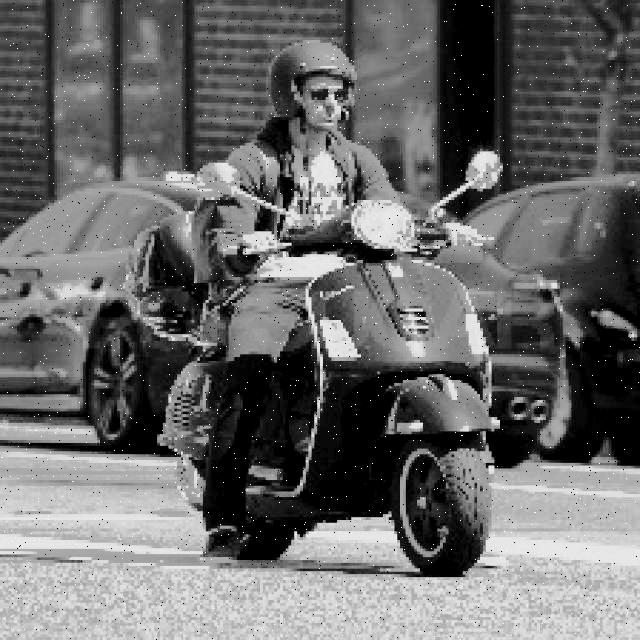Bike: (196, 230, 492, 578)
